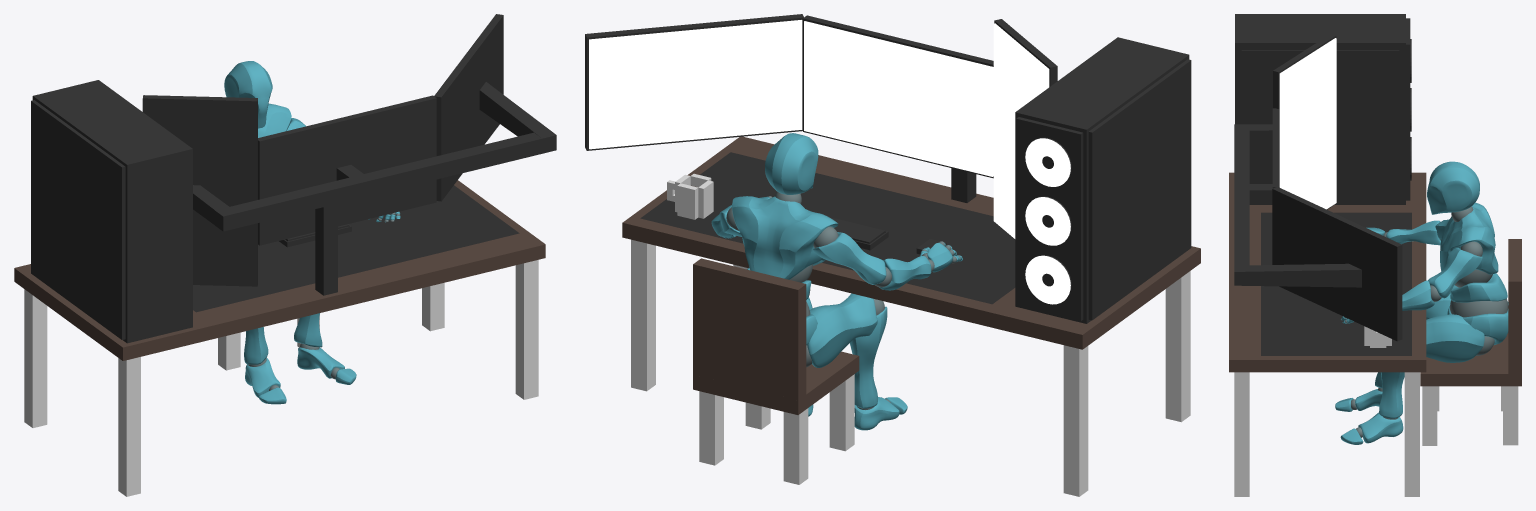
The model's file is progPc.glb.
3 views of the same model, side by side, from view 1: azimuth 30°, elevation 25°; view 2: azimuth 150°, elevation 25°; view 3: azimuth 270°, elevation 25° (orthographic). The views are drawn at different scales.
Visible parts, largest first — view 1: PC, Monitors, Desk, MonitorArm, MousePad, Alpha_Surface, Chair; view 2: PC, Desk, S_A, Chair, S_B, Alpha_Surface, MousePad, S_C, Monitors, Cup, R_C, R_B (+4 smaller); view 3: PC, Alpha_Surface, Desk, Monitors, MousePad, S_C, Chair, MonitorArm, Alpha_Joints, Cup.
Boxes of the visible parts, x1=… form: PC: x1=31, y1=80, x2=192, y2=343; Monitors: x1=142, y1=14, x2=503, y2=286; Desk: x1=14, y1=180, x2=545, y2=496; MonitorArm: x1=193, y1=82, x2=556, y2=295; MousePad: x1=193, y1=185, x2=519, y2=312; Alpha_Surface: x1=224, y1=61, x2=400, y2=404; Chair: x1=218, y1=315, x2=319, y2=370; PC: x1=1015, y1=37, x2=1191, y2=323; Desk: x1=622, y1=136, x2=1200, y2=496; S_A: x1=589, y1=20, x2=802, y2=149; Chair: x1=693, y1=258, x2=859, y2=484; S_B: x1=804, y1=21, x2=993, y2=176; Alpha_Surface: x1=711, y1=133, x2=962, y2=430; MousePad: x1=640, y1=152, x2=1015, y2=304; S_C: x1=993, y1=23, x2=1049, y2=238; Monitors: x1=585, y1=14, x2=1057, y2=239; Cup: x1=667, y1=173, x2=713, y2=219; R_C: x1=1025, y1=197, x2=1070, y2=245; R_B: x1=1025, y1=255, x2=1070, y2=304; PC: x1=1235, y1=14, x2=1411, y2=204; Alpha_Surface: x1=1335, y1=161, x2=1508, y2=444; Desk: x1=1229, y1=172, x2=1426, y2=496; Monitors: x1=1272, y1=34, x2=1402, y2=341; MousePad: x1=1261, y1=212, x2=1411, y2=355; S_C: x1=1279, y1=38, x2=1336, y2=209; Chair: x1=1420, y1=239, x2=1521, y2=445; MonitorArm: x1=1234, y1=124, x2=1361, y2=287; Alpha_Joints: x1=1340, y1=206, x2=1508, y2=437; Cup: x1=1364, y1=326, x2=1391, y2=347.
Size of the model in its own units: 6.56 by 4.57 by 3.87.
